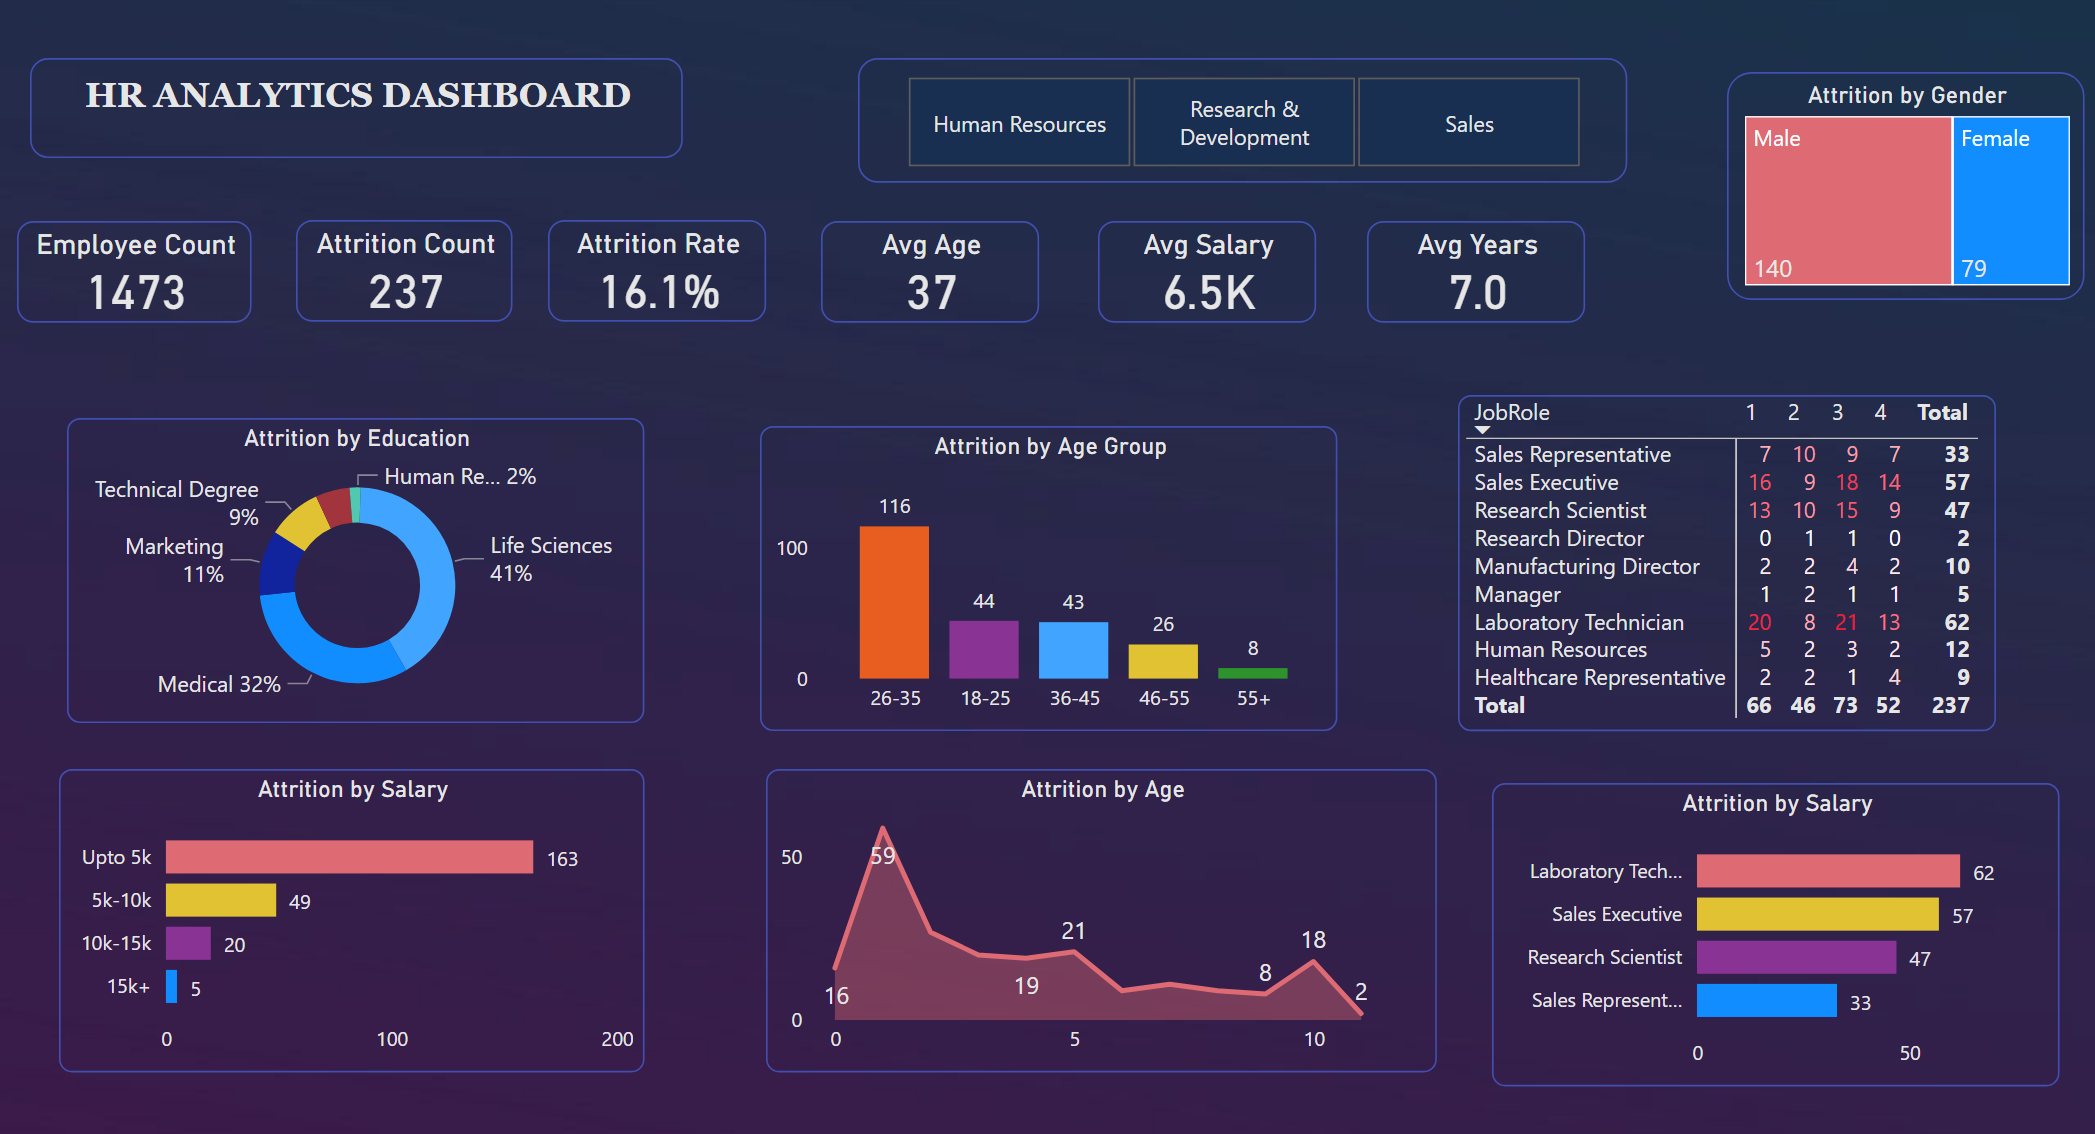

The page's visual inventory and layout, read from the dashboard file:
{"tool":"powerbi","page":{"name":"Page 1","canvas":[1280,720],"ordinal":0},"visuals":[{"type":"card","title":"Attrition Count","fields":{"Values":["Sum(HR_Analytics.AttritionCount)"]},"box":[181.1,136.6,132.3,62.2],"z":0},{"type":"card","title":"Employee Count","fields":{"Values":["Sum(HR_Analytics.EmployeeCount)"]},"box":[11,137.2,143.3,61.6],"z":1000},{"type":"card","title":"Attrition Rate","fields":{"Values":["HR_Analytics.AttritionRate"]},"box":[334.7,136.6,132.9,62.2],"z":2000},{"type":"card","title":"Avg Age","fields":{"Values":["Avg(HR_Analytics.Age)"]},"box":[501.1,137.2,132.9,61.6],"z":3000},{"type":"card","title":"Avg Salary","fields":{"Values":["Avg(HR_Analytics.MonthlyIncome)"]},"box":[670,137.2,132.9,61.6],"z":4000},{"type":"card","title":"Avg Years","fields":{"Values":["Avg(HR_Analytics.YearsAtCompany)"]},"box":[834,137.2,132.9,61.6],"z":5000},{"type":"donutChart","title":"Attrition by Education","fields":{"Category":["HR_Analytics.EducationField"],"Y":["CountNonNull(HR_Analytics.Attrition)"]},"box":[41.5,257.3,351.8,185.9],"z":6000},{"type":"columnChart","title":"Attrition by Age Group","fields":{"Y":["Sum(HR_Analytics.AttritionCount)"],"Category":["HR_Analytics.AgeGroup"]},"box":[463.9,262.2,352.4,185.9],"z":7000},{"type":"pivotTable","fields":{"Rows":["HR_Analytics.JobRole"],"Columns":["HR_Analytics.JobSatisfaction"],"Values":["Sum(HR_Analytics.AttritionCount)"]},"box":[889.5,243.3,328,204.8],"z":8000},{"type":"barChart","title":"Attrition by Salary","fields":{"Y":["Sum(HR_Analytics.AttritionCount)"],"Category":["HR_Analytics.SalarySlab"]},"box":[36.6,471.3,356.6,185.3],"z":9000},{"type":"barChart","title":"Attrition by Salary","fields":{"Y":["Sum(HR_Analytics.AttritionCount)"],"Category":["HR_Analytics.JobRole"]},"box":[910.2,479.8,346.3,185.3],"z":10000},{"type":"areaChart","title":"Attrition by Age","fields":{"Category":["HR_Analytics.YearsAtCompany"],"Y":["Sum(HR_Analytics.AttritionCount)"]},"box":[467.6,471.3,409.1,185.3],"z":11000},{"type":"treemap","title":"Attrition by Gender","fields":{"Values":["Sum(HR_Analytics.AttritionCount)"],"Group":["HR_Analytics.Gender"]},"box":[1053.6,46.4,217.9,139.3],"z":12000},{"type":"textbox","box":[18.8,37.5,397.9,61.5],"z":14000},{"type":"slicer","fields":{"Values":["HR_Analytics.Department"]},"box":[523.7,37.8,469.4,76.2],"z":15001}]}

Visuals, with their boxes on the page's 1280x720 design canvas (x1, y1, x2, y2). These are canvas units, not pixel positions in the 2095x1134 screenshot, which may show the page scaled, cropped or inside an application window:
"Attrition Count" card: 181, 137, 313, 199
"Employee Count" card: 11, 137, 154, 199
"Attrition Rate" card: 335, 137, 468, 199
"Avg Age" card: 501, 137, 634, 199
"Avg Salary" card: 670, 137, 803, 199
"Avg Years" card: 834, 137, 967, 199
"Attrition by Education" donutChart: 42, 257, 393, 443
"Attrition by Age Group" columnChart: 464, 262, 816, 448
pivotTable - HR_Analytics.JobRole x HR_Analytics.JobSatisfaction: 890, 243, 1218, 448
"Attrition by Salary" barChart: 37, 471, 393, 657
"Attrition by Salary" barChart: 910, 480, 1256, 665
"Attrition by Age" areaChart: 468, 471, 877, 657
"Attrition by Gender" treemap: 1054, 46, 1272, 186
textbox: 19, 38, 417, 99
slicer - HR_Analytics.Department: 524, 38, 993, 114
